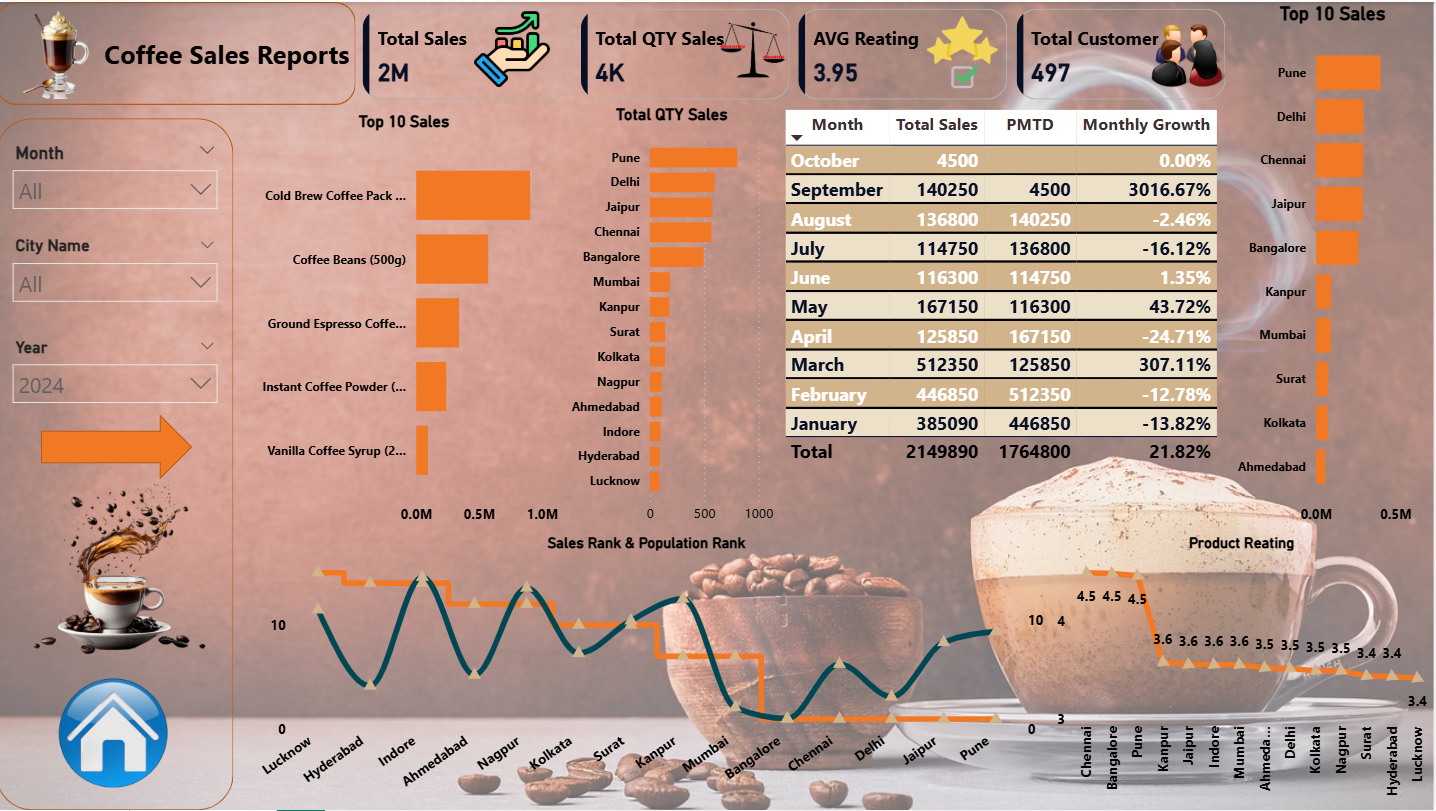

The page's visual inventory and layout, read from the dashboard file:
{"tool":"powerbi","page":{"name":"Sales Repots 1","canvas":[1280,720],"ordinal":0},"visuals":[{"type":"barChart","title":"Top 10 Sales","fields":{"Category":["city.city_name"],"Y":["sales.Total Sales"]},"box":[1099.3,0,181,474.5],"z":0},{"type":"cardVisual","fields":{"Data":["sales.Total Sales","sales.Total QTY Sales","sales.AVG Reating","products.Total Customer"]},"box":[322.1,1.2,778.2,91.7],"z":1000},{"type":"barChart","title":"Total QTY Sales ","fields":{"Category":["city.city_name"],"Y":["sales.Total QTY Sales"]},"box":[506.3,91.7,190.8,382.7],"z":2000},{"type":"clusteredBarChart","title":"Top 10 Sales","fields":{"Category":["products.product_name"],"Y":["sales.Sales Summary"]},"box":[220.1,97.8,286.1,376.6],"z":4000},{"type":"image","box":[0,0,113.7,91.7],"z":5000},{"type":"shape","box":[0,0,320.4,91.7],"z":6000},{"type":"shape","box":[0,103.9,211.6,616.3],"z":7000},{"type":"lineChart","title":"Sales Rank & Population Rank","fields":{"Category":["city.city_name"],"Y":["sales.Sales Rank2"],"Y2":["Sum(city.city_rank)"]},"box":[220.1,474.5,717.8,245.8],"z":8000},{"type":"tableEx","fields":{"Values":["Calendar.Date.Variation.Date Hierarchy.Month","sales.Total Sales","sales.PMTD Sales","sales.Monthly Growth"]},"box":[697,91.7,402.3,382.7],"z":9000},{"type":"slicer","fields":{"Values":["Calendar.Date.Variation.Date Hierarchy.Month"]},"box":[4.9,119.8,203,64.8],"z":10000},{"type":"slicer","fields":{"Values":["city.city_name"]},"box":[4.9,204.2,203,64.8],"z":11000},{"type":"slicer","fields":{"Values":["Calendar.Date.Variation.Date Hierarchy.Year"]},"box":[4.9,293.5,203,66],"z":12000},{"type":"shape","box":[40.1,367.3,134.7,57.9],"z":13000},{"type":"image","box":[0,581.5,208.7,138.7],"z":14000},{"type":"image","box":[0,412.6,207.5,184.6],"z":15000},{"type":"image","box":[824,6,73.6,78.4],"z":16000},{"type":"image","box":[411.4,0,95.3,84.5],"z":17000},{"type":"image","box":[1024.3,6,76,78.4],"z":18000},{"type":"image","box":[639.4,6,70,73.6],"z":19000},{"type":"lineChart","title":"Product Reating","fields":{"Category":["city.city_name"],"Y":["sales.AVG Reating"]},"box":[938.5,474.2,341.7,246.4],"z":19001}]}

Visuals, with their boxes in screenshot pixels (x1, y1, x2, y2), scaled from the page's 1280x720 canvas onto the 1436x811 screenshot:
"Top 10 Sales" barChart: {"left": 1233, "top": 0, "right": 1435, "bottom": 534}
cardVisual - sales.Total Sales x sales.Total QTY Sales: {"left": 361, "top": 1, "right": 1234, "bottom": 105}
"Total QTY Sales " barChart: {"left": 568, "top": 103, "right": 782, "bottom": 534}
"Top 10 Sales" clusteredBarChart: {"left": 247, "top": 110, "right": 568, "bottom": 534}
image: {"left": 0, "top": 0, "right": 128, "bottom": 103}
shape: {"left": 0, "top": 0, "right": 359, "bottom": 103}
shape: {"left": 0, "top": 117, "right": 237, "bottom": 810}
"Sales Rank & Population Rank" lineChart: {"left": 247, "top": 534, "right": 1052, "bottom": 810}
tableEx - Calendar.Date.Variation.Date Hierarchy.Month x sales.Total Sales: {"left": 782, "top": 103, "right": 1233, "bottom": 534}
slicer - Calendar.Date.Variation.Date Hierarchy.Month: {"left": 5, "top": 135, "right": 233, "bottom": 208}
slicer - city.city_name: {"left": 5, "top": 230, "right": 233, "bottom": 303}
slicer - Calendar.Date.Variation.Date Hierarchy.Year: {"left": 5, "top": 331, "right": 233, "bottom": 405}
shape: {"left": 45, "top": 414, "right": 196, "bottom": 479}
image: {"left": 0, "top": 655, "right": 234, "bottom": 810}
image: {"left": 0, "top": 465, "right": 233, "bottom": 673}
image: {"left": 924, "top": 7, "right": 1007, "bottom": 95}
image: {"left": 462, "top": 0, "right": 568, "bottom": 95}
image: {"left": 1149, "top": 7, "right": 1234, "bottom": 95}
image: {"left": 717, "top": 7, "right": 796, "bottom": 90}
"Product Reating" lineChart: {"left": 1053, "top": 534, "right": 1435, "bottom": 810}
